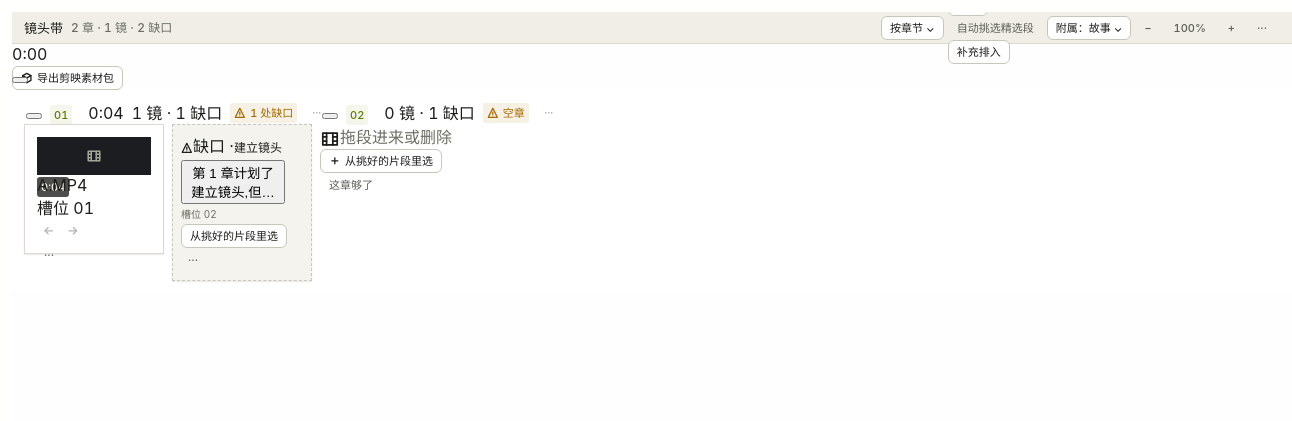
Test: R-08:缺口卡片底行不被裁 › 说明文字的 line-clamp 打在 <button> 里的 span 上(WebKit 的按钮不认 -webkit-box 截行,会撑成四行把底行挤出卡片)
Step 1. Click the button named "更多" → [193, 260], box [181,248,205,272]
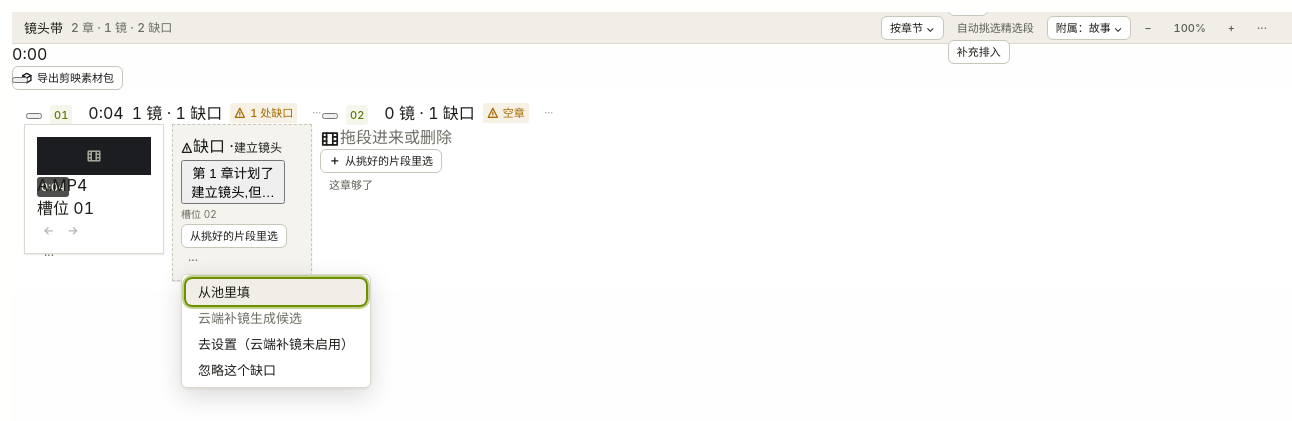
Check: the menu item "去设置（云端补镜未启用）" is shown, box [186,331,366,357]
